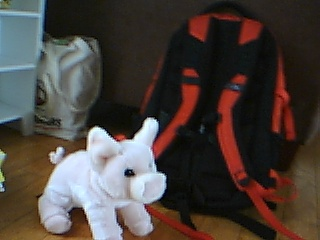piggy: (35, 117, 170, 240)
